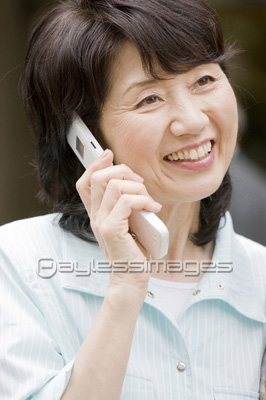phone: (70, 135, 162, 238)
talk: (64, 56, 238, 293)
